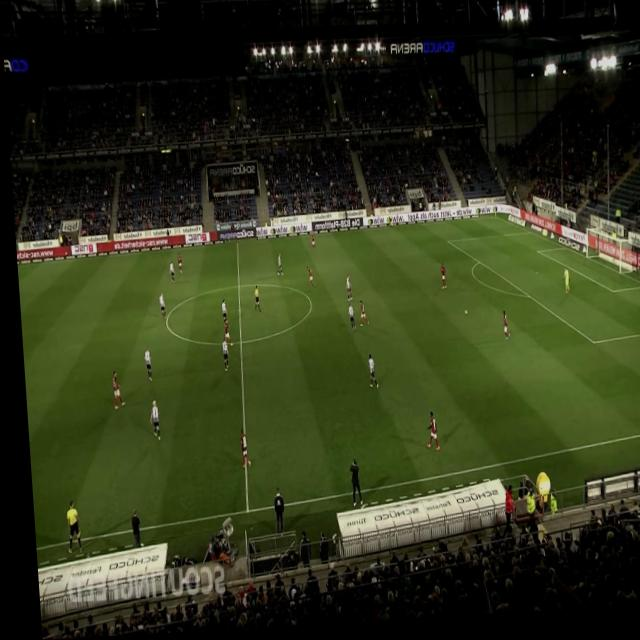goalkeeper: (557, 273, 566, 302)
player: (418, 415, 434, 456), (107, 371, 120, 410), (142, 401, 154, 441), (234, 431, 245, 471), (362, 358, 373, 394), (138, 349, 147, 383), (216, 338, 224, 375), (354, 304, 365, 330), (218, 322, 228, 349), (343, 306, 352, 335), (154, 294, 162, 323), (341, 277, 349, 305), (498, 316, 505, 347), (216, 301, 224, 326), (303, 269, 311, 292), (272, 256, 279, 280), (436, 268, 442, 295), (165, 263, 172, 285), (306, 233, 313, 255), (173, 254, 179, 276)
referee: (58, 500, 75, 555), (248, 287, 257, 315), (383, 214, 390, 232)
